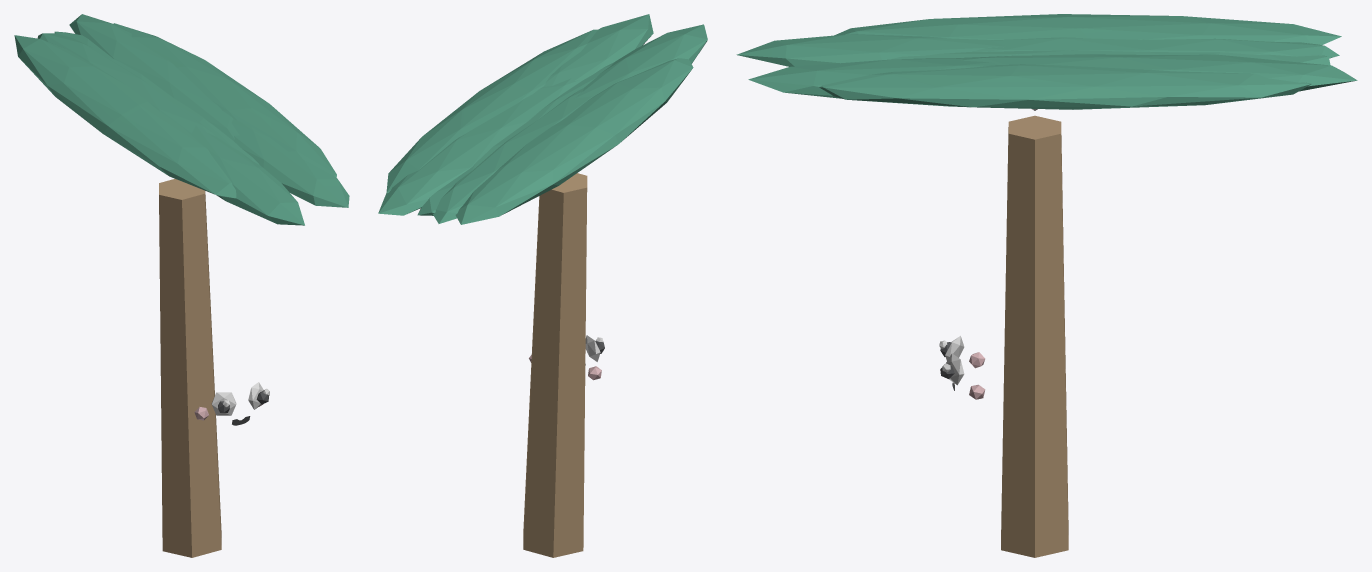
File: archontophoenix-cunninghamiana.glb
3 views of the same model, side by side, from view 1: azimuth 30°, elevation 25°; view 2: azimuth 150°, elevation 25°; view 3: azimuth 270°, elevation 25° (orthographic). The views are drawn at different scales.
Parts seen in each view (by area): view 1: trunk, frond3, frond0, frond6, frond2, frond1, frond4, frond5; view 2: trunk, frond3, frond0, frond6, frond4, frond2, frond1, frond5; view 3: trunk, frond0, frond3, frond6, frond2, frond4, frond1, frond5.
Boxes of the visible parts, x1,y1,x2,y2 form: trunk: (159, 179, 221, 557); frond3: (14, 35, 236, 198); frond0: (113, 23, 336, 177); frond6: (69, 14, 239, 140); frond2: (190, 125, 304, 225); frond1: (231, 119, 349, 207); frond4: (37, 33, 215, 136); frond5: (54, 31, 259, 164); trunk: (523, 173, 587, 557); frond3: (455, 58, 693, 224); frond0: (386, 29, 597, 193); frond6: (378, 78, 581, 215); frond4: (433, 88, 592, 223); frond2: (574, 24, 707, 98); frond1: (543, 14, 653, 86); frond5: (417, 62, 614, 215); trunk: (1001, 115, 1068, 557); frond0: (819, 64, 1311, 109); frond3: (834, 14, 1341, 44); frond6: (956, 54, 1357, 91); frond2: (736, 34, 1006, 66); frond4: (973, 37, 1339, 58); frond1: (748, 58, 998, 98); frond5: (890, 50, 1330, 65).
Bounding box in the file's own units: 0.2306 × 0.6304 × 0.7158.
